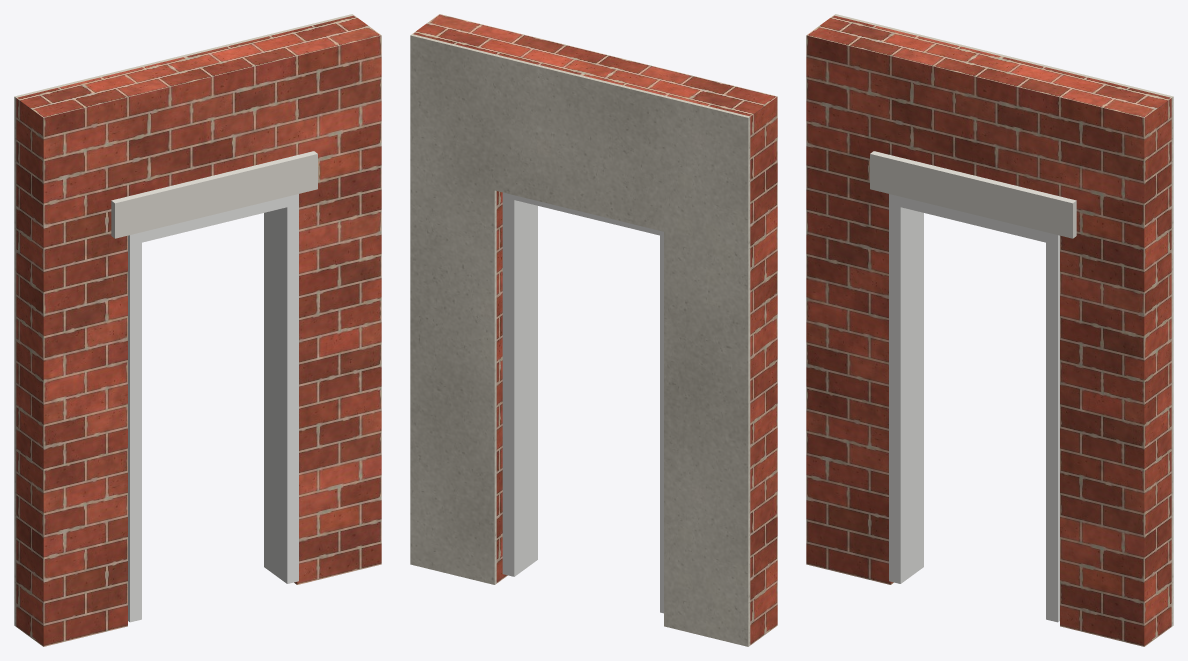
File: wall_a2_backdoor.glb
3 renders of one model, left to right at view 1: azimuth 30°, elevation 25°; view 2: azimuth 150°, elevation 25°; view 3: azimuth 330°, elevation 25°, orthographic.
Visible parts, largest first — view 1: wall_a2_backdoor_brick, wall_a2_backdoor_frame, wall_a2_backdoor_lime, wall_a2_backdoor_plaster; view 2: wall_a2_backdoor_plaster, wall_a2_backdoor_brick, wall_a2_backdoor_frame; view 3: wall_a2_backdoor_brick, wall_a2_backdoor_frame, wall_a2_backdoor_lime, wall_a2_backdoor_plaster.
Boxes of the visible parts, bbox=[...] form: wall_a2_backdoor_brick: bbox=[16, 15, 381, 646]; wall_a2_backdoor_frame: bbox=[128, 194, 298, 622]; wall_a2_backdoor_lime: bbox=[111, 151, 317, 238]; wall_a2_backdoor_plaster: bbox=[14, 14, 353, 626]; wall_a2_backdoor_plaster: bbox=[410, 34, 750, 646]; wall_a2_backdoor_brick: bbox=[412, 14, 777, 645]; wall_a2_backdoor_frame: bbox=[502, 192, 663, 613]; wall_a2_backdoor_brick: bbox=[806, 15, 1171, 646]; wall_a2_backdoor_frame: bbox=[889, 194, 1059, 622]; wall_a2_backdoor_lime: bbox=[870, 151, 1076, 238]; wall_a2_backdoor_plaster: bbox=[834, 14, 1173, 626].
Bounding box in the file's own units: 2 × 2.99 × 0.34.
4 materials, 2 textured.
